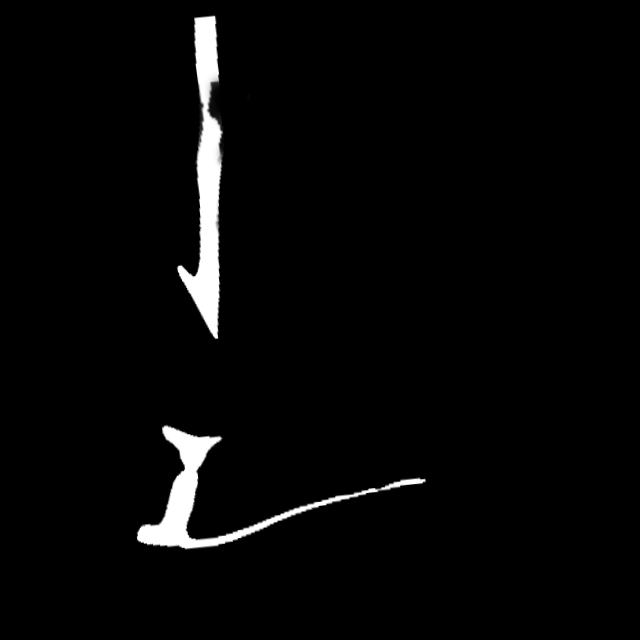sl: (188, 68, 230, 141)
